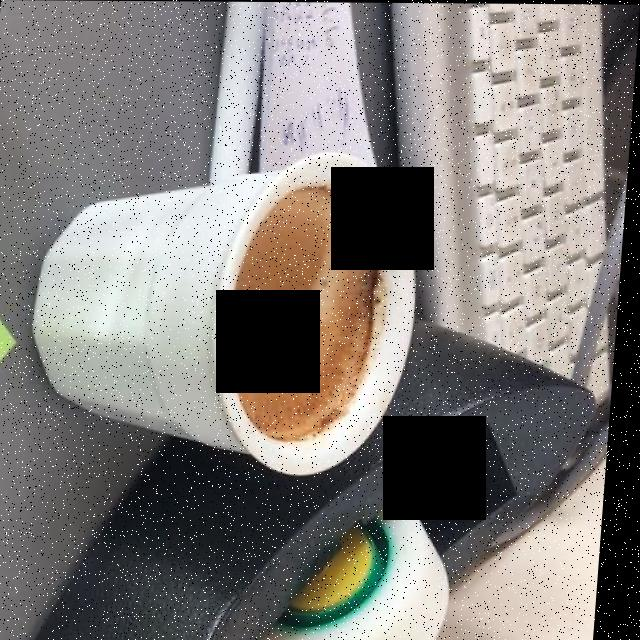coffee-with-caffeine: (236, 191, 385, 441)
